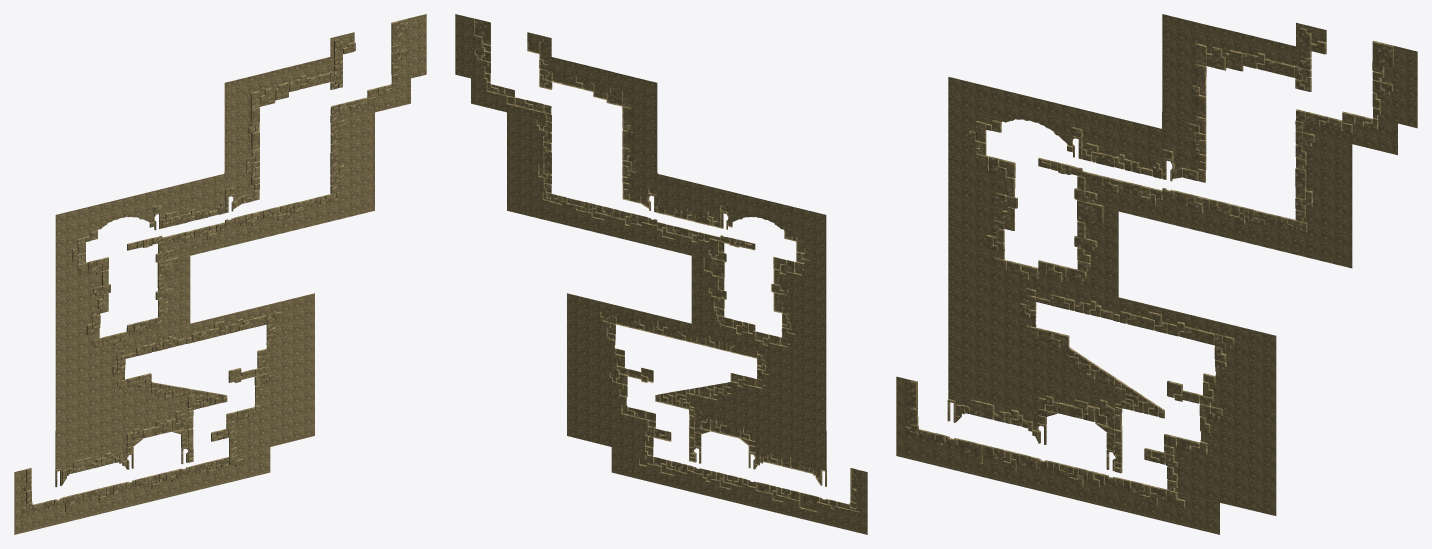
Rendered from underground_bake.dae.
3 views of the same model, side by side, from view 1: azimuth 30°, elevation 25°; view 2: azimuth 150°, elevation 25°; view 3: azimuth 330°, elevation 25° (orthographic). The views are drawn at different scales.
Visible parts, largest first — view 1: m0; view 2: m0; view 3: m0.
Boxes of the visible parts, x1=… form: m0: x1=14, y1=14, x2=426, y2=534; m0: x1=455, y1=14, x2=867, y2=534; m0: x1=896, y1=14, x2=1417, y2=534.
Bounding box in the file's own units: 34458 × 33569 × 186.
Materials: 2 (2 with a texture image).
